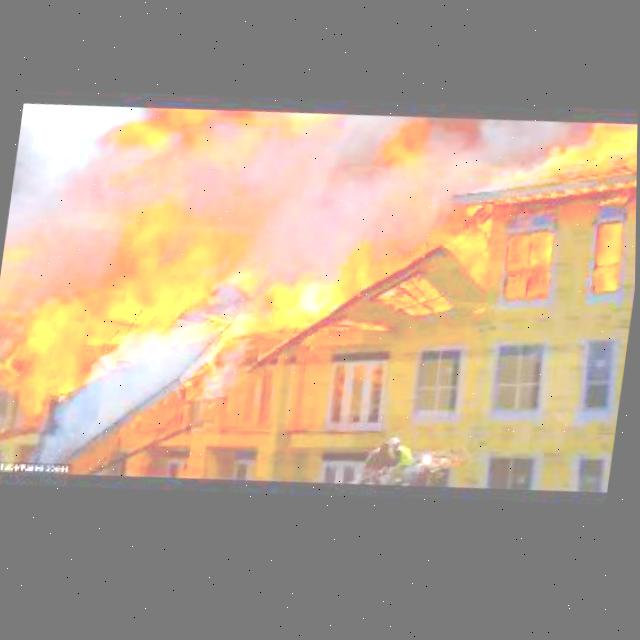Fire: (0, 86, 260, 451), (229, 97, 509, 372), (495, 118, 638, 213), (500, 227, 557, 315), (589, 227, 629, 307)
